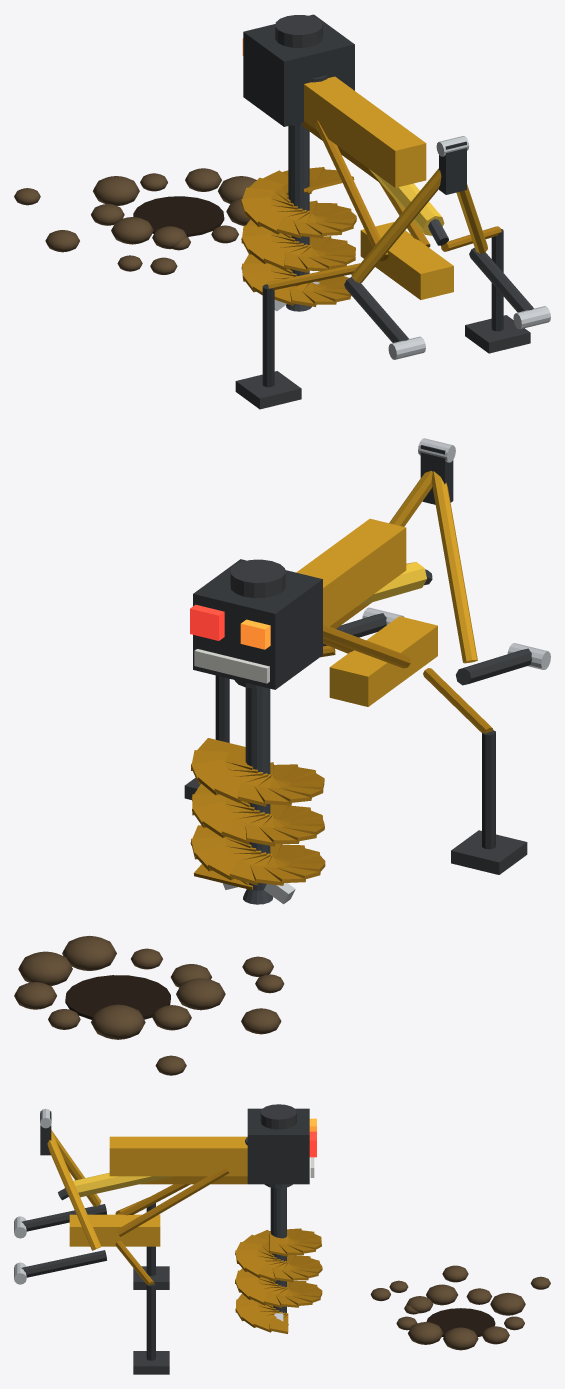
File: post_hole_digger.glb
3 views of the same model, one above another, from view 1: azimuth 30°, elevation 25°; view 2: azimuth 150°, elevation 25°; view 3: azimuth 270°, elevation 25° (orthographic). The views are drawn at different scales.
Visible parts, largest first — view 1: DiggerBody, DiggerAuger, DiggerProps; view 2: DiggerBody, DiggerAuger, DiggerProps; view 3: DiggerBody, DiggerAuger, DiggerProps.
Boxes of the visible parts, x1,y1,x2,y2 form: DiggerBody: (235, 14, 550, 409); DiggerAuger: (241, 125, 356, 311); DiggerProps: (14, 168, 256, 274); DiggerBody: (184, 438, 550, 874); DiggerAuger: (190, 687, 325, 904); DiggerProps: (14, 935, 284, 1075); DiggerBody: (14, 1104, 316, 1374); DiggerAuger: (235, 1187, 322, 1333); DiggerProps: (370, 1265, 550, 1350).
Bounding box in the file's own units: 1.3 × 1.29 × 2.95.
